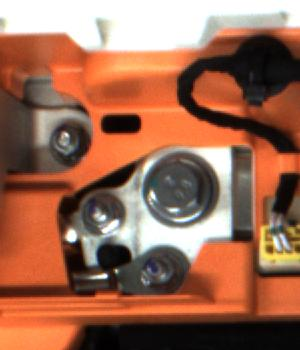nut_b: (139, 145, 221, 229)
screw_s: (72, 191, 125, 239), (133, 244, 182, 290), (48, 120, 94, 162)
